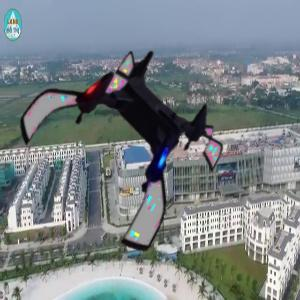drone: (19, 37, 223, 241)
